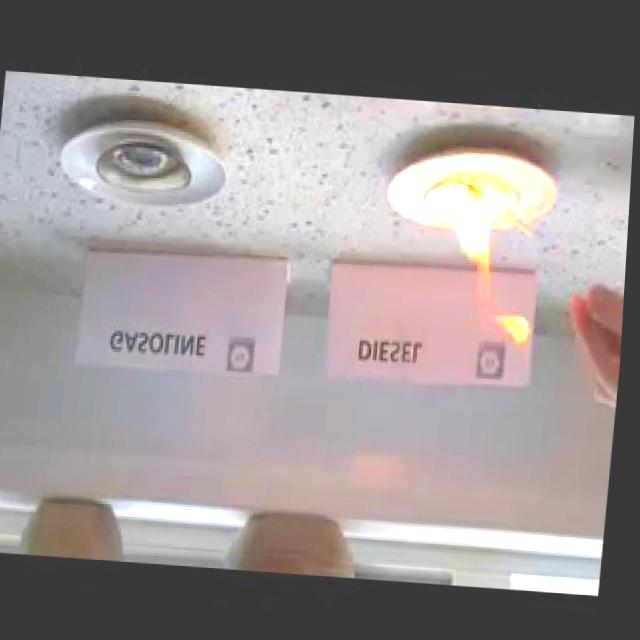helmet: (422, 169, 545, 341)
